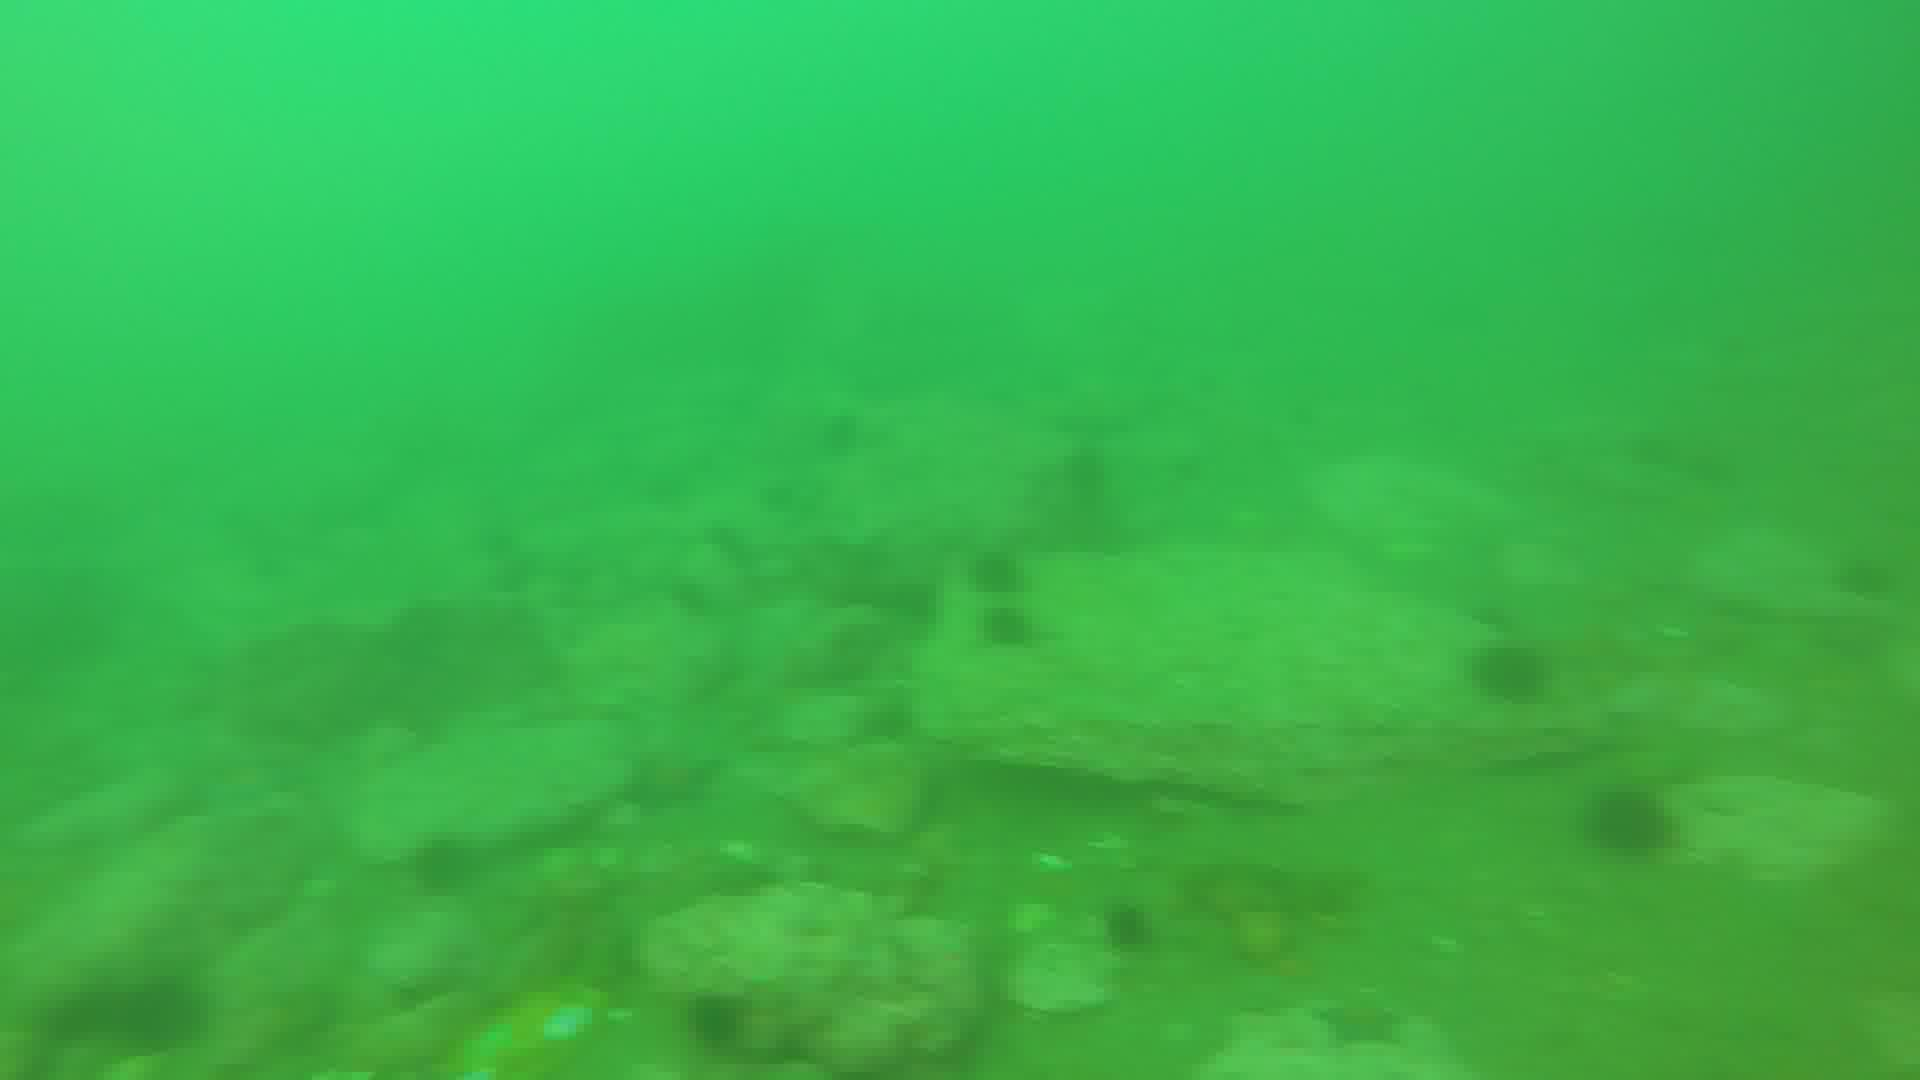echinus: (1600, 785, 1681, 856), (1478, 636, 1553, 704), (402, 833, 469, 891), (1841, 551, 1908, 607), (1109, 894, 1156, 948), (985, 607, 1034, 647), (969, 559, 1011, 600)
